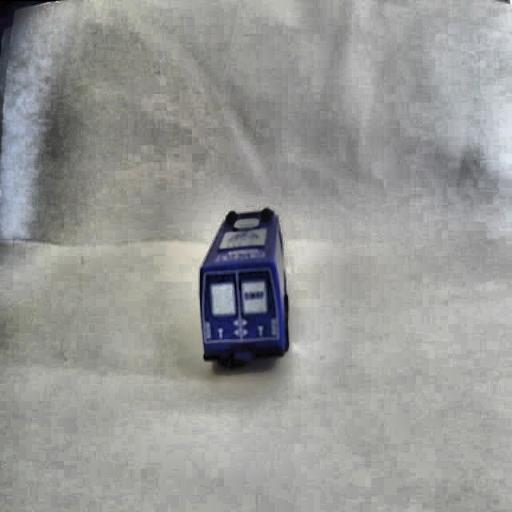police car: (197, 203, 291, 371)
